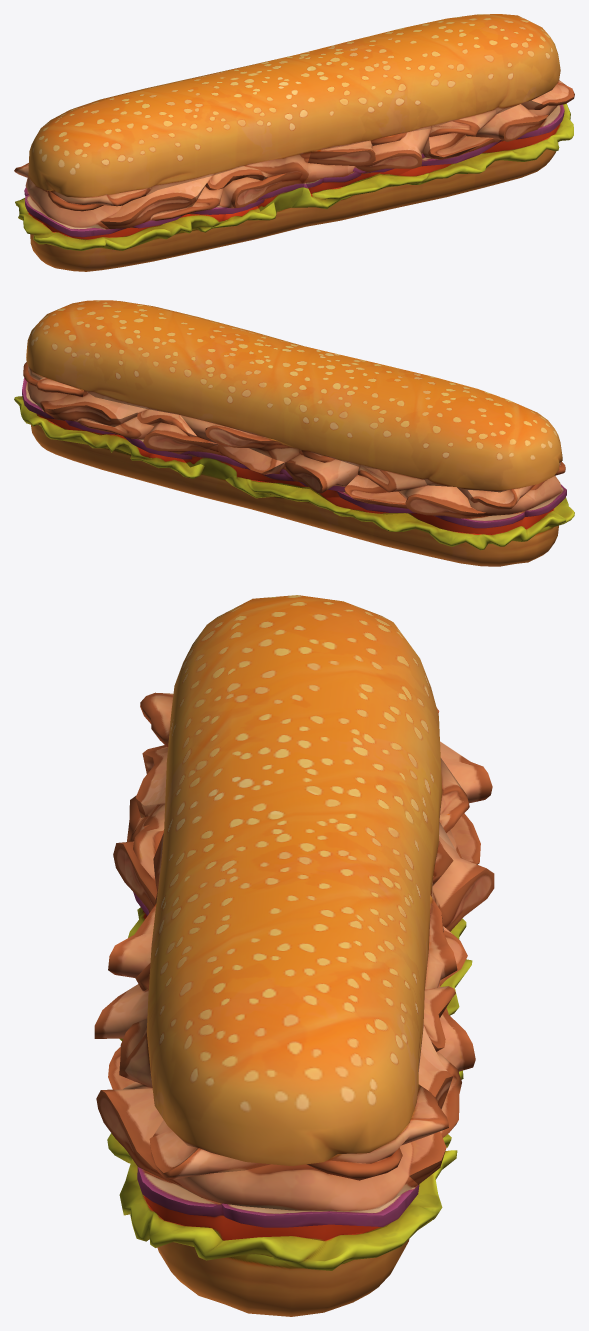
File: Ham-Sandwich.fbx
The picture shows the model from 3 angles, top to bottom: view 1: azimuth 30°, elevation 25°; view 2: azimuth 150°, elevation 25°; view 3: azimuth 270°, elevation 25°; orthographic projection. The views are drawn at different scales.
Parts seen in each view (by area): view 1: Ham_Sandwich; view 2: Ham_Sandwich; view 3: Ham_Sandwich.
Boxes of the visible parts, x1,y1,x2,y2 form: Ham_Sandwich: [14, 14, 574, 271]; Ham_Sandwich: [14, 300, 574, 566]; Ham_Sandwich: [94, 595, 494, 1316].
Bounding box in the file's own units: 13.8 × 3.54 × 4.44.
Materials: 1 (1 with a texture image).
